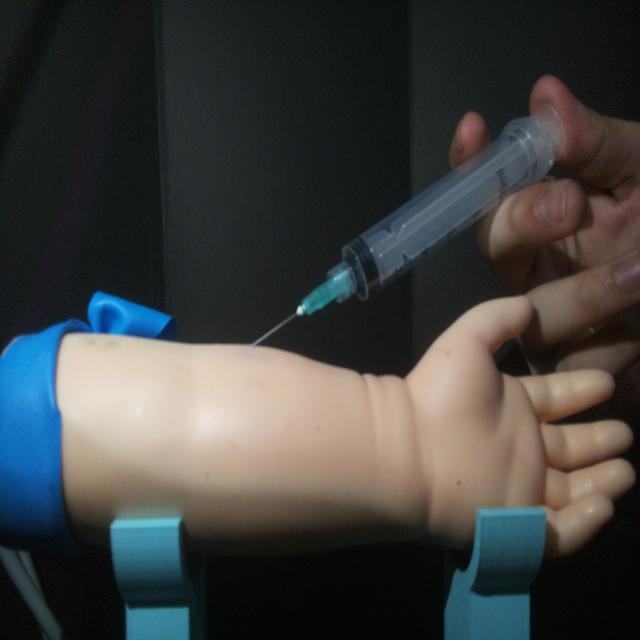26deg: (244, 100, 567, 350)
